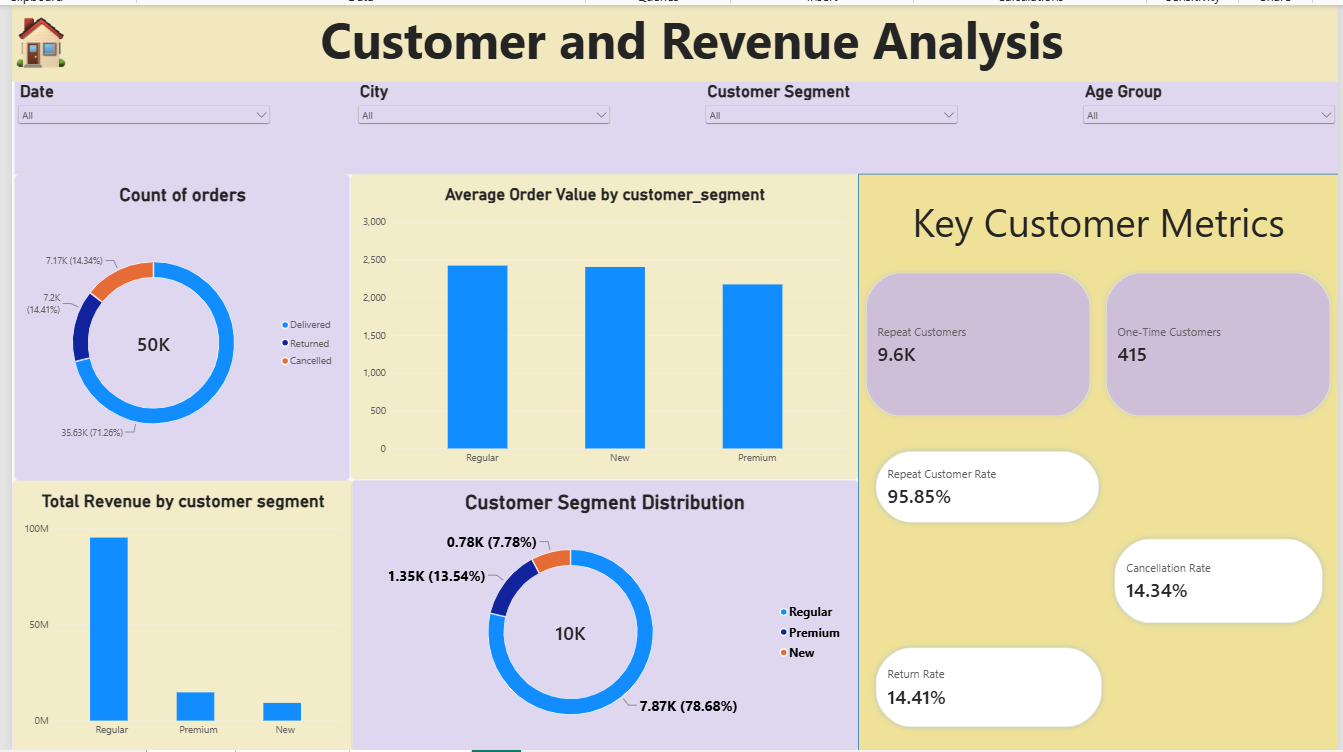

The page's visual inventory and layout, read from the dashboard file:
{"tool":"powerbi","page":{"name":"customer","canvas":[1920,1080],"ordinal":1},"visuals":[{"type":"group","id":"g1","title":"Group 1","box":[0,0,1920.4,111.1],"z":0},{"type":"textbox","box":[0,0,1920.4,111.1],"z":0,"group":"g1"},{"type":"image","box":[0,16.5,84.4,76.2],"z":1000},{"type":"group","id":"g2","title":"Group 2","box":[4.1,111.1,1916.3,133.8],"z":2000},{"type":"donutChart","title":"Customer Segment Distribution","fields":{"Category":["quickkart customers.customer_segment"],"Y":["CountNonNull(quickkart customers.customer_id)"]},"box":[489.9,687.5,734.8,393.1],"z":3000},{"type":"clusteredColumnChart","fields":{"Category":["quickkart customers.customer_segment"],"Y":["quickkart customers.Average Order Value"]},"box":[489.9,244.9,734.8,442.5],"z":4000},{"type":"clusteredColumnChart","title":"Total Revenue by customer segment","fields":{"Category":["quickkart customers.customer_segment"],"Y":["quickkart orders.Total Revenue"]},"box":[0,687.5,494,393.1],"z":5000},{"type":"donutChart","title":"Count of orders","fields":{"Category":["quickkart orders.order_status"],"Y":["CountNonNull(quickkart orders.order_id)"]},"box":[4.1,244.9,485.8,444.6],"z":6000},{"type":"shape","box":[1224.7,244.9,695.7,835.7],"z":7000},{"type":"slicer","fields":{"Values":["quickkart orders.order_datetime"]},"box":[4.1,111.1,375.2,133.8],"z":8000,"group":"g2"},{"type":"textbox","box":[1224.7,275.8,695.7,100.9],"z":8000},{"type":"slicer","fields":{"Values":["quickkart customers.city"]},"box":[497.1,111.1,375.2,133.8],"z":9000,"group":"g2"},{"type":"cardVisual","fields":{"Data":["quickkart customers.Repeat Customers"]},"box":[1224.7,376.7,347.9,230.5],"z":9000},{"type":"slicer","fields":{"Values":["quickkart customers.customer_segment"]},"box":[999.5,111.1,375.2,133.8],"z":10000,"group":"g2"},{"type":"cardVisual","fields":{"Data":["quickkart customers.One-Time Customers"]},"box":[1572.6,376.7,347.9,230.5],"z":10000},{"type":"slicer","fields":{"Values":["quickkart customers.age_group"]},"box":[1545.2,111.1,375.2,133.8],"z":11000,"group":"g2"},{"type":"cardVisual","fields":{"Data":["quickkart customers.Repeat Customer Rate"]},"box":[1239.1,636,345.8,125.6],"z":11000},{"type":"cardVisual","fields":{"Data":["quickkart customers.Cancellation Rate"]},"box":[1584.9,761.6,323.2,144.1],"z":12000},{"type":"cardVisual","fields":{"Data":["quickkart customers.Return Rate"]},"box":[1239.1,920.1,349.9,137.9],"z":13000}]}

Visuals, with their boxes on the page's 1920x1080 design canvas (x1, y1, x2, y2). These are canvas units, not pixel positions in the 1343x752 screenshot, which may show the page scaled, cropped or inside an application window:
"Group 1" group: BBox(0, 0, 1920, 111)
textbox: BBox(0, 0, 1920, 111)
image: BBox(0, 16, 84, 93)
"Group 2" group: BBox(4, 111, 1920, 245)
"Customer Segment Distribution" donutChart: BBox(490, 688, 1225, 1081)
clusteredColumnChart - quickkart customers.customer_segment x quickkart customers.Average Order Value: BBox(490, 245, 1225, 687)
"Total Revenue by customer segment" clusteredColumnChart: BBox(0, 688, 494, 1081)
"Count of orders" donutChart: BBox(4, 245, 490, 690)
shape: BBox(1225, 245, 1920, 1081)
slicer - quickkart orders.order_datetime: BBox(4, 111, 379, 245)
textbox: BBox(1225, 276, 1920, 377)
slicer - quickkart customers.city: BBox(497, 111, 872, 245)
cardVisual - quickkart customers.Repeat Customers: BBox(1225, 377, 1573, 607)
slicer - quickkart customers.customer_segment: BBox(1000, 111, 1375, 245)
cardVisual - quickkart customers.One-Time Customers: BBox(1573, 377, 1920, 607)
slicer - quickkart customers.age_group: BBox(1545, 111, 1920, 245)
cardVisual - quickkart customers.Repeat Customer Rate: BBox(1239, 636, 1585, 762)
cardVisual - quickkart customers.Cancellation Rate: BBox(1585, 762, 1908, 906)
cardVisual - quickkart customers.Return Rate: BBox(1239, 920, 1589, 1058)
